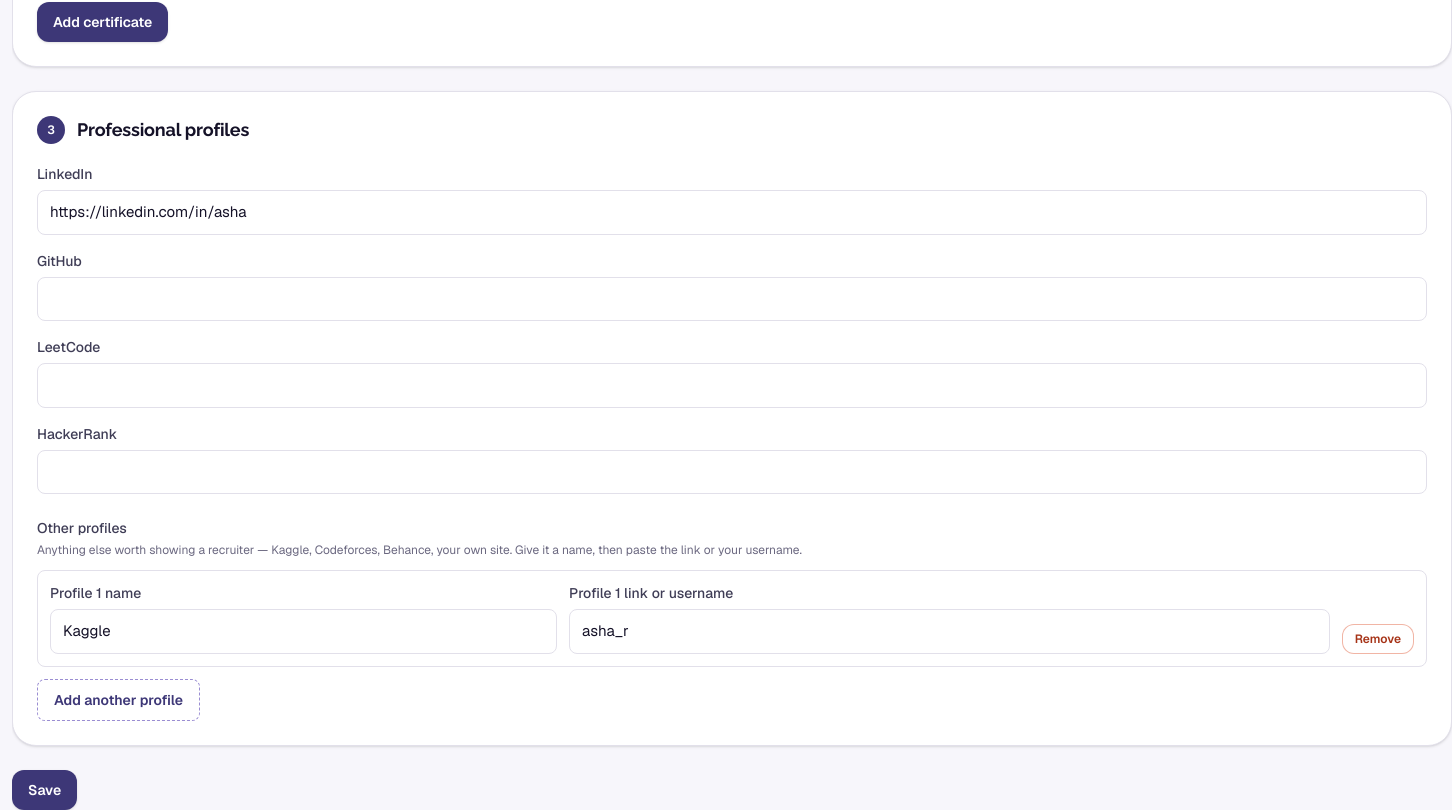
Test: ProfileEditPage › confirms the save, so the student knows it took
(page scrolled)
Click the button "Save": [45, 790] box [12,770,77,809]
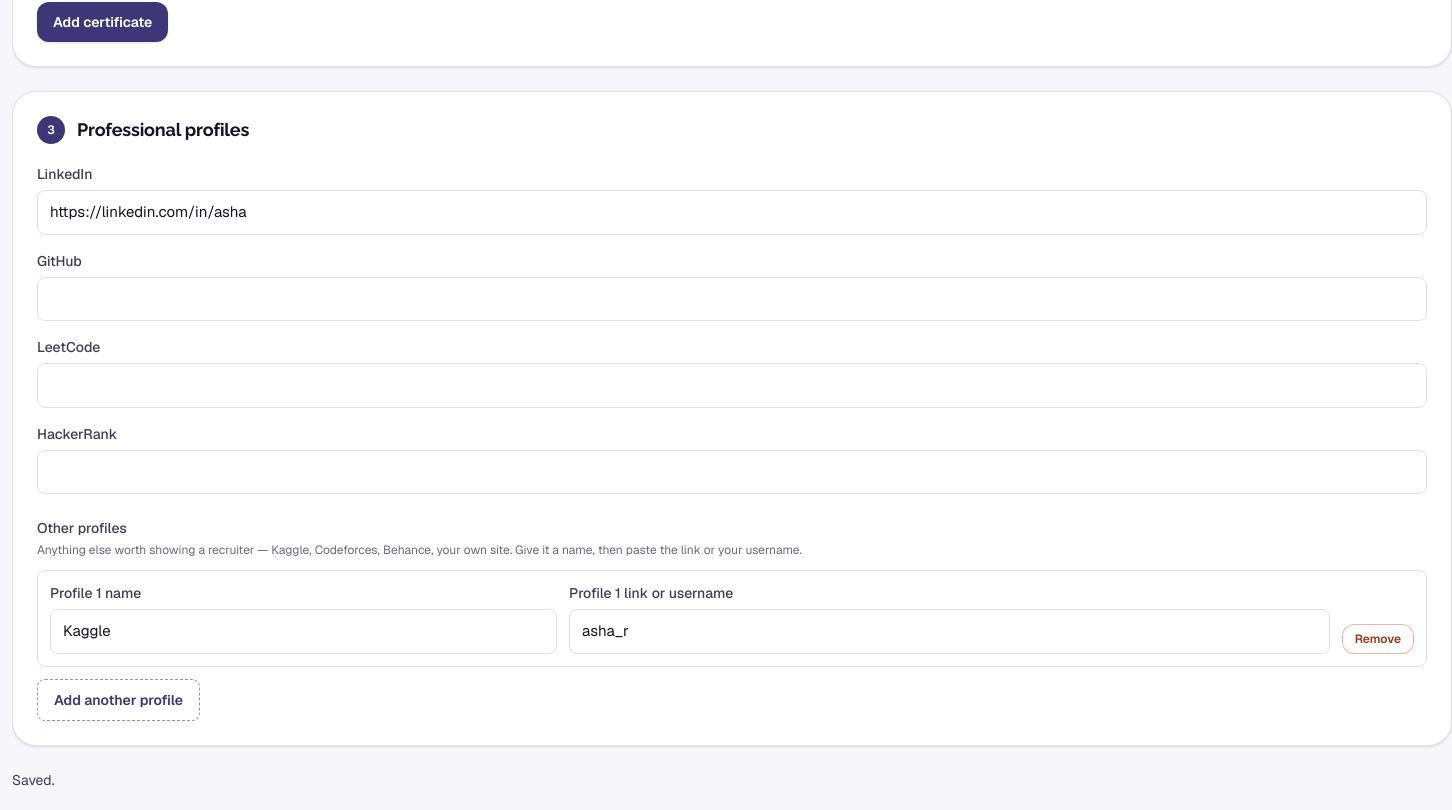
Expected: the text "Saved." is shown, [12,770,54,788]
